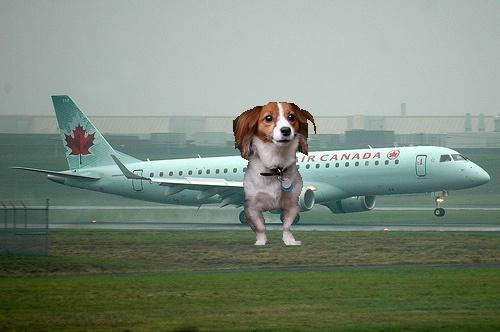tampered: (234, 103, 316, 245)
